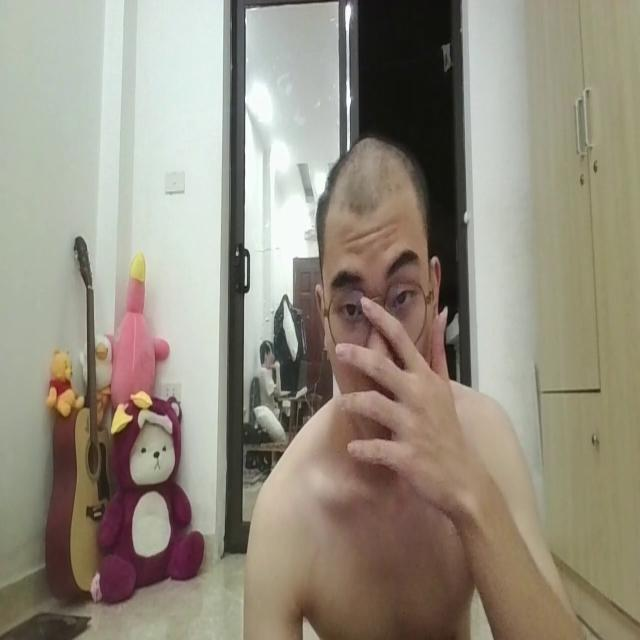student: (246, 130, 582, 640)
